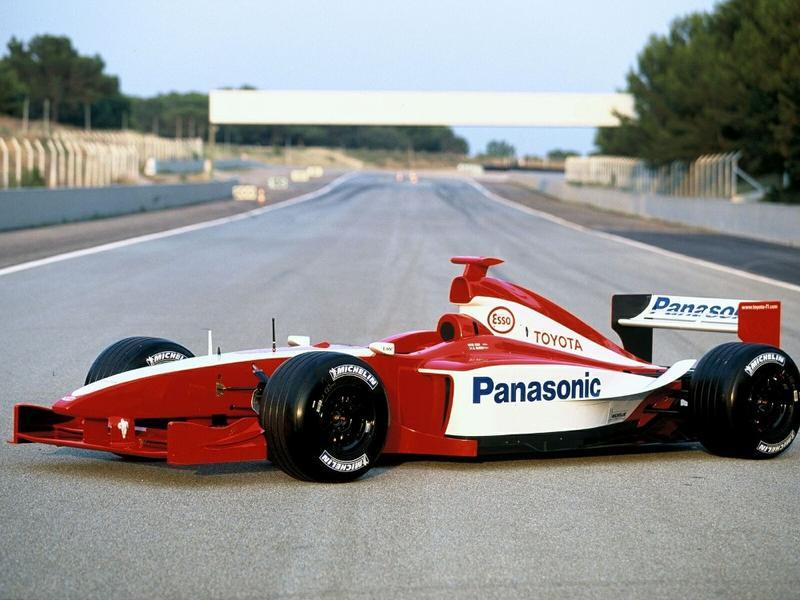f1: (13, 252, 800, 494)
